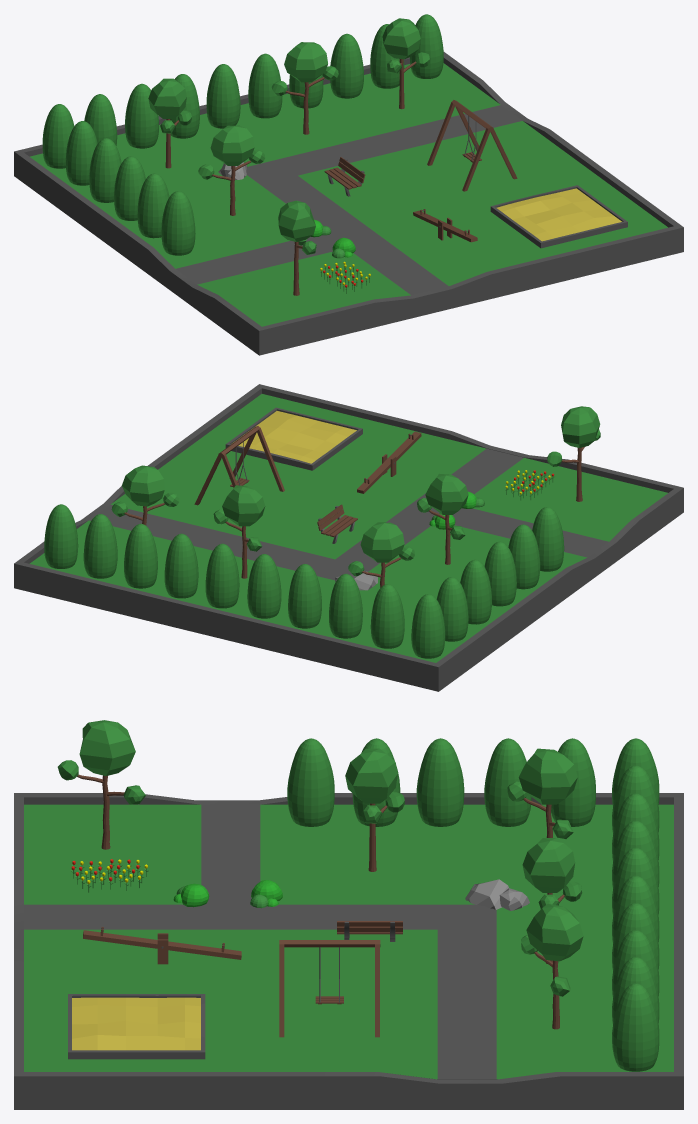
Rendered from test park medium (1).fbx.
The picture shows the model from 3 angles, top to bottom: view 1: azimuth 30°, elevation 25°; view 2: azimuth 150°, elevation 25°; view 3: azimuth 270°, elevation 25°; orthographic projection. The views are drawn at different scales.
Parts seen in each view (by area): view 1: pSphere159; view 2: pSphere159; view 3: pSphere159.
Boxes of the visible parts, x1,y1,x2,y2 form: pSphere159: [14, 14, 683, 355]; pSphere159: [14, 384, 683, 691]; pSphere159: [14, 720, 683, 1109].
Bounding box in the file's own units: 192 × 48.06 × 192.
